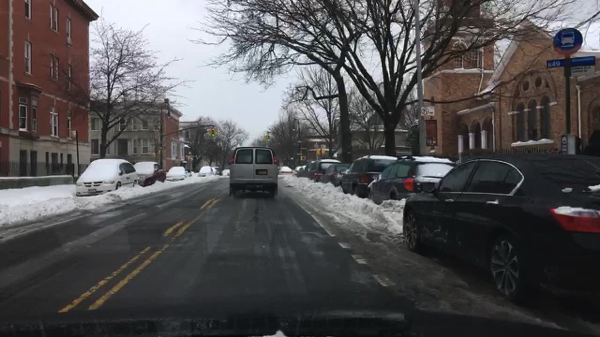car: (402, 154, 598, 304), (364, 156, 456, 205), (228, 145, 277, 199), (75, 158, 138, 198), (340, 156, 396, 198), (132, 160, 165, 188), (319, 163, 349, 186), (310, 159, 340, 181), (165, 166, 187, 182), (302, 159, 315, 176), (197, 166, 213, 176), (293, 165, 307, 175), (277, 164, 292, 173), (215, 165, 221, 175), (221, 169, 230, 175), (210, 166, 216, 175)
person: (583, 130, 598, 154), (575, 137, 584, 155)
traffic light: (211, 128, 214, 138), (320, 148, 325, 154), (316, 149, 321, 155), (299, 156, 305, 161), (266, 135, 270, 142), (262, 134, 266, 141), (214, 130, 217, 137)
traffic sign: (552, 30, 581, 56), (544, 57, 595, 66), (419, 106, 433, 117), (72, 131, 76, 141)
